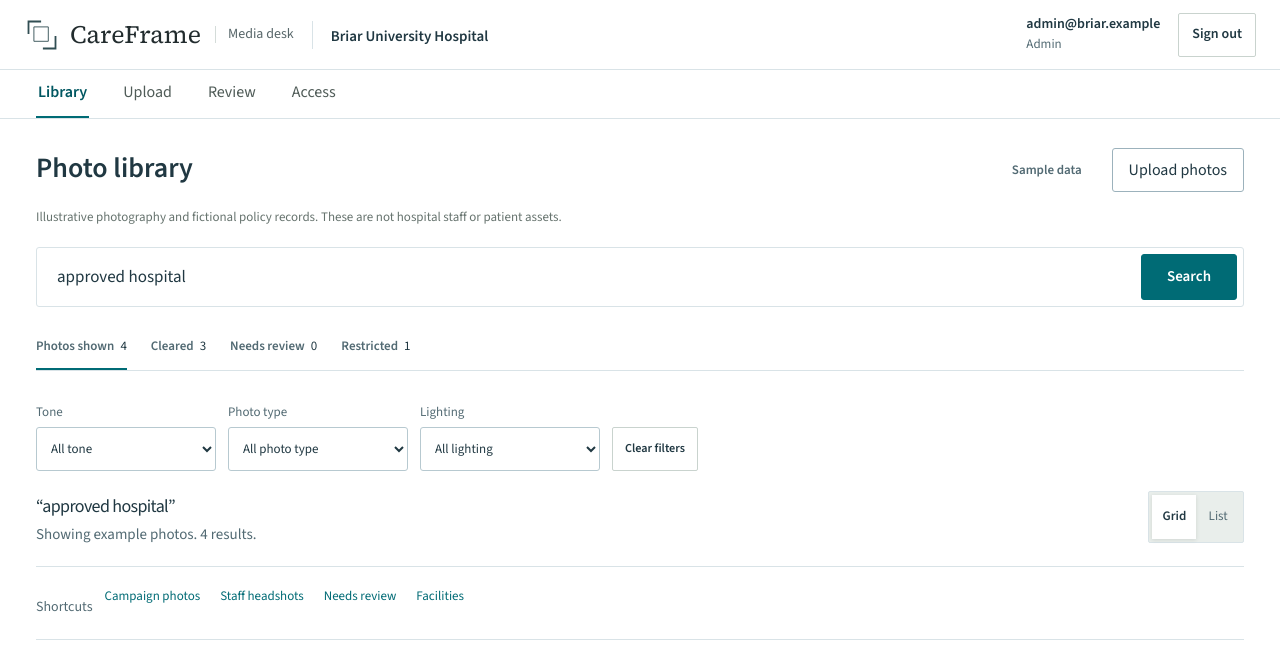
App workspace access › keeps staff tools in focused workspace views
Step 1. Click the button "Upload" → point(148, 94), box [121,70,174,118]
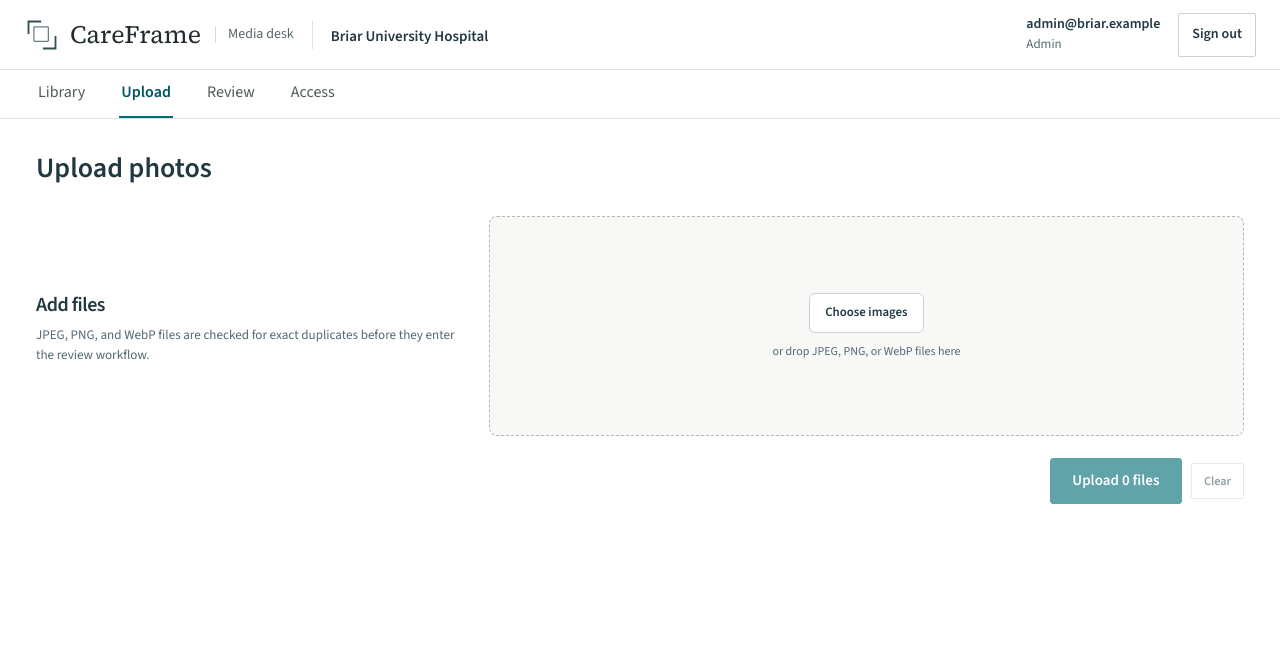
Now the element with class "upload-panel" is shown, box [36,216,1244,504]
